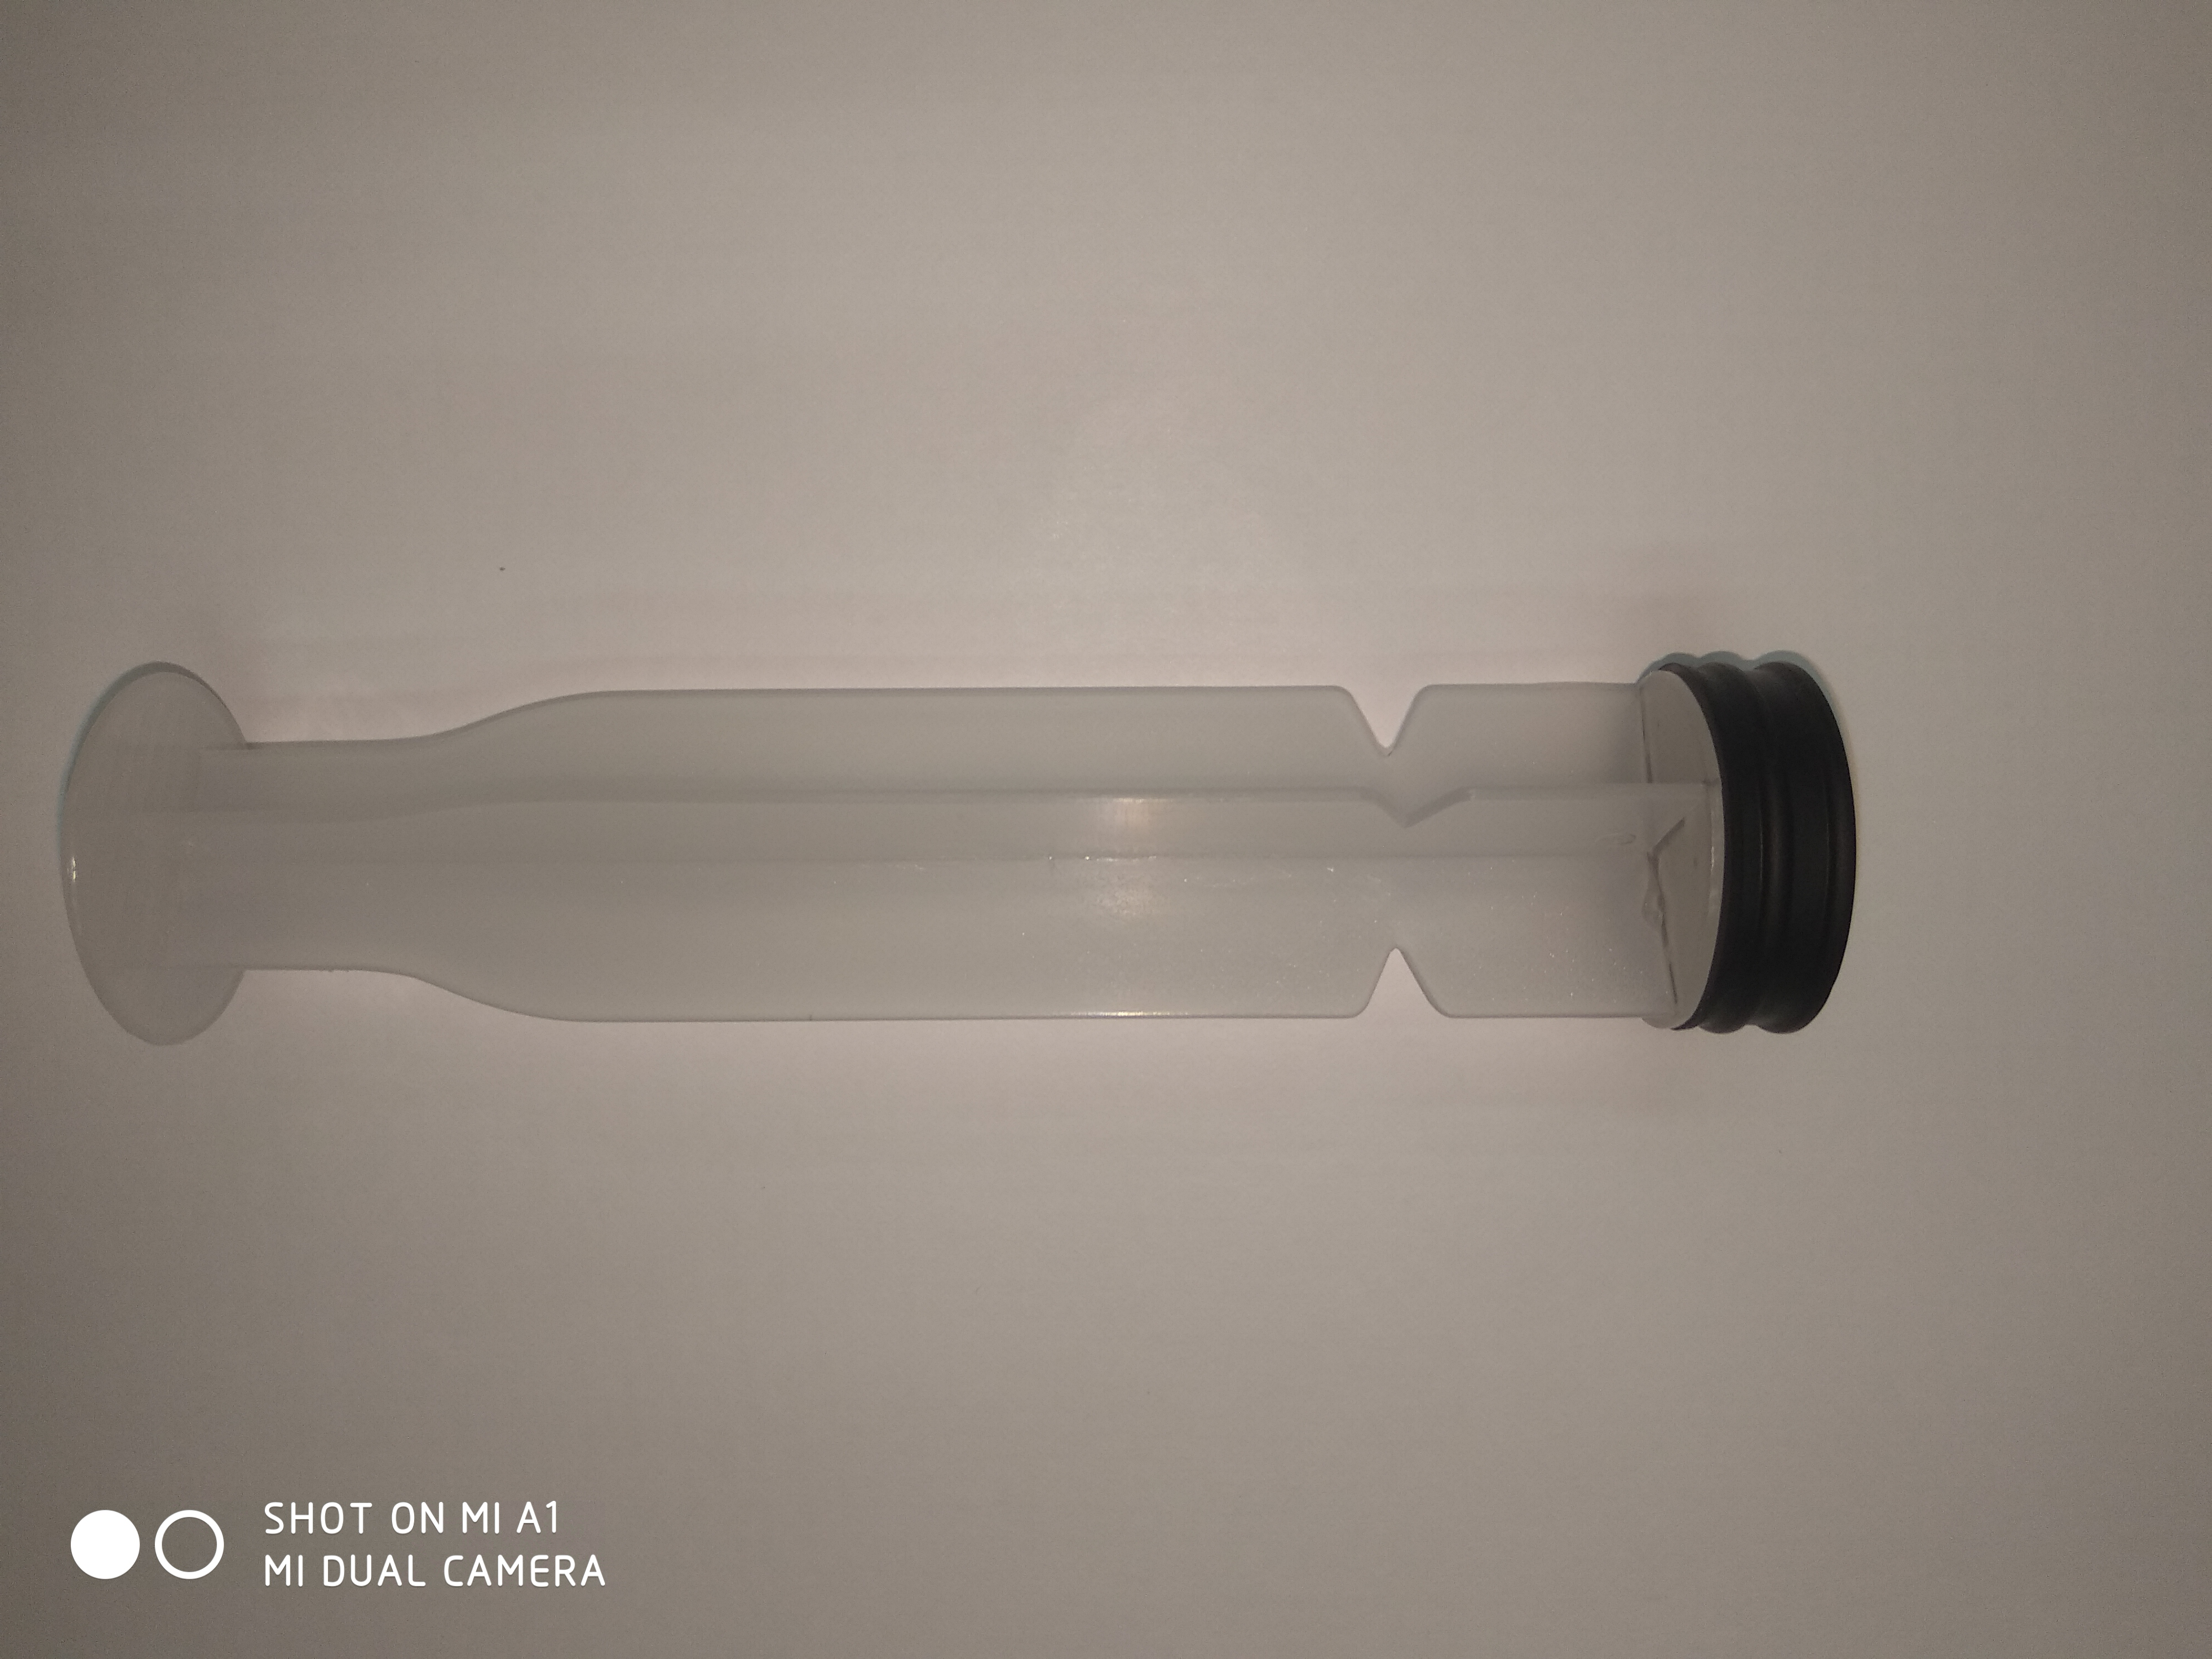plunger: (56, 647, 1864, 1049)
